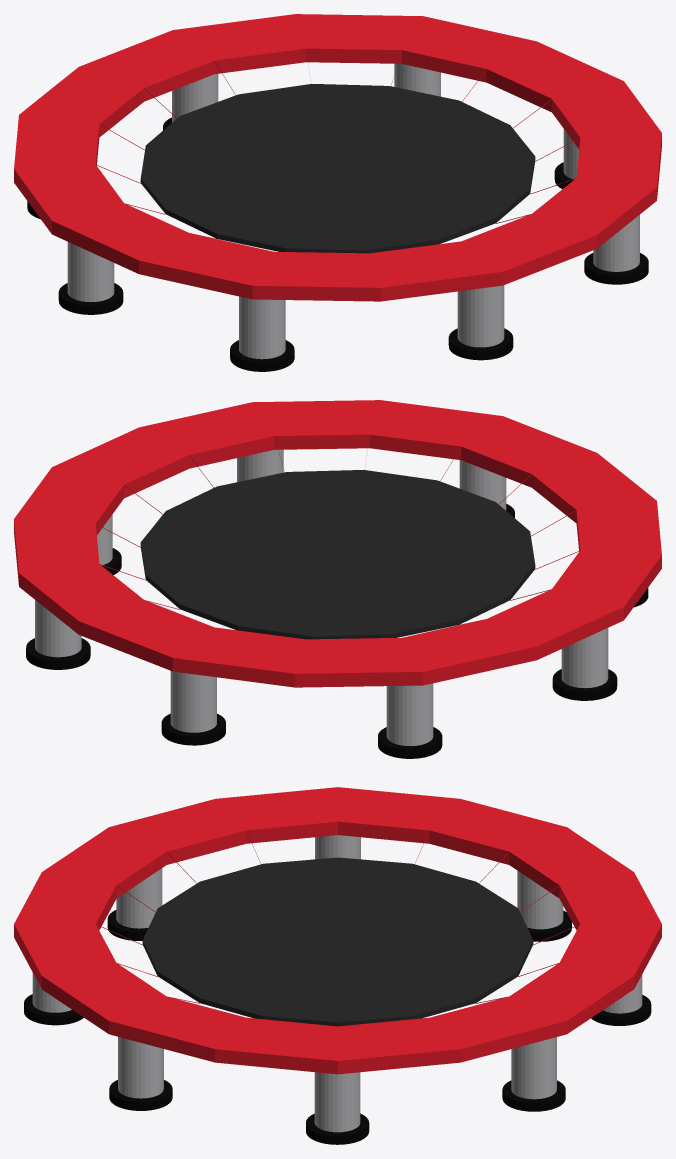
File: トランポリン.fbx
The picture shows the model from 3 angles, top to bottom: view 1: azimuth 30°, elevation 25°; view 2: azimuth 150°, elevation 25°; view 3: azimuth 270°, elevation 25°; orthographic projection.
Parts seen in each view (by area): view 1: 円, 円.001, 円柱.013; view 2: 円, 円.001, 円柱.013; view 3: 円, 円.001, 円柱.013.
Boxes of the visible parts, x1,y1,x2,y2 form: 円: [14, 14, 661, 301]; 円.001: [140, 84, 535, 253]; 円柱.013: [27, 63, 648, 371]; 円: [14, 400, 661, 687]; 円.001: [140, 470, 535, 639]; 円柱.013: [26, 449, 648, 758]; 円: [14, 787, 661, 1074]; 円.001: [142, 857, 533, 1026]; 円柱.013: [24, 835, 651, 1144].
Bounding box in the file's own units: 332 × 49.94 × 332.
